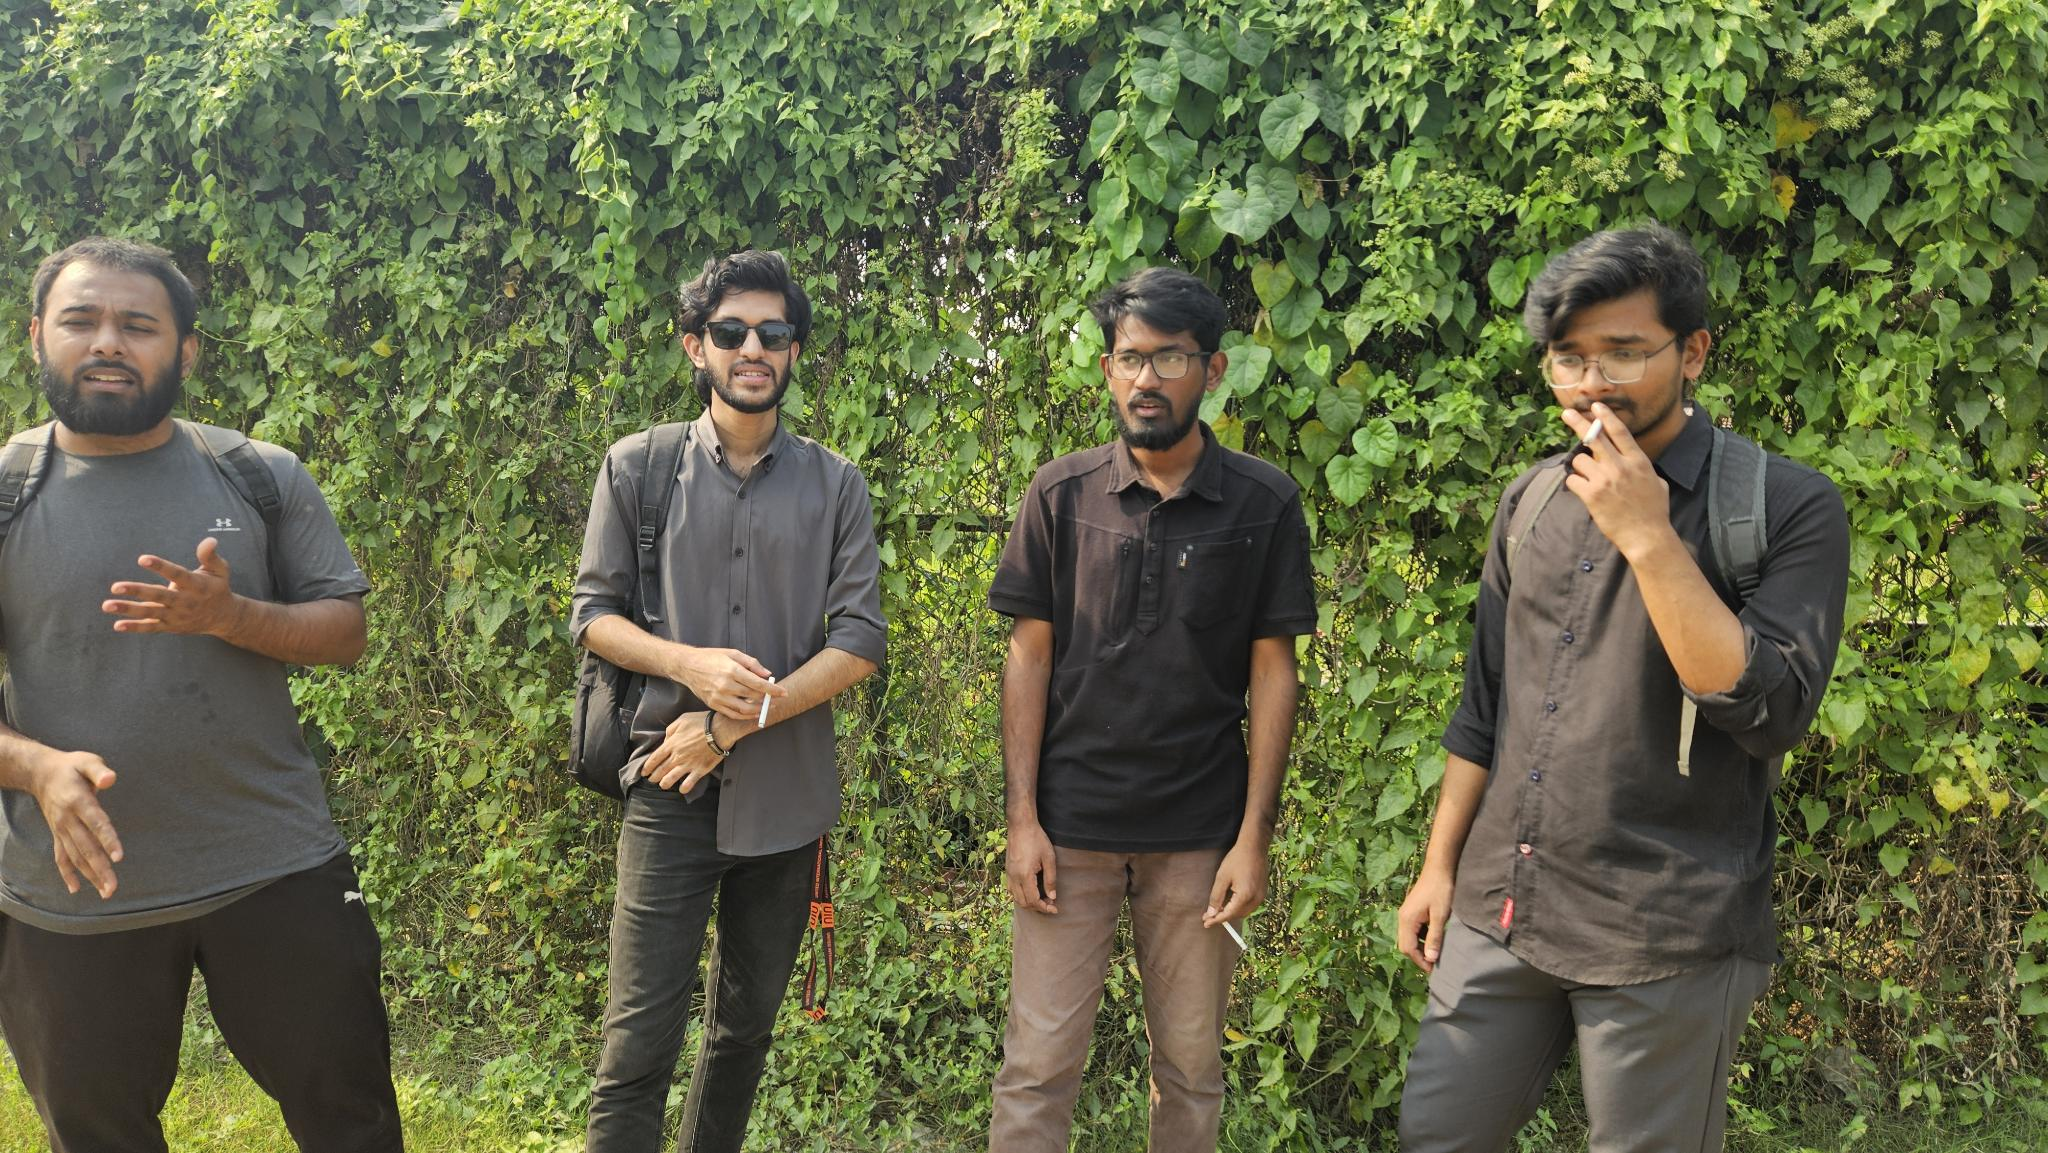cigarette: (757, 675, 776, 730), (1221, 921, 1249, 952), (1581, 418, 1604, 449)
nonSmoker: (1, 235, 405, 1153)
smoker: (1395, 229, 1850, 1153), (986, 267, 1318, 1153), (568, 252, 888, 1153)
